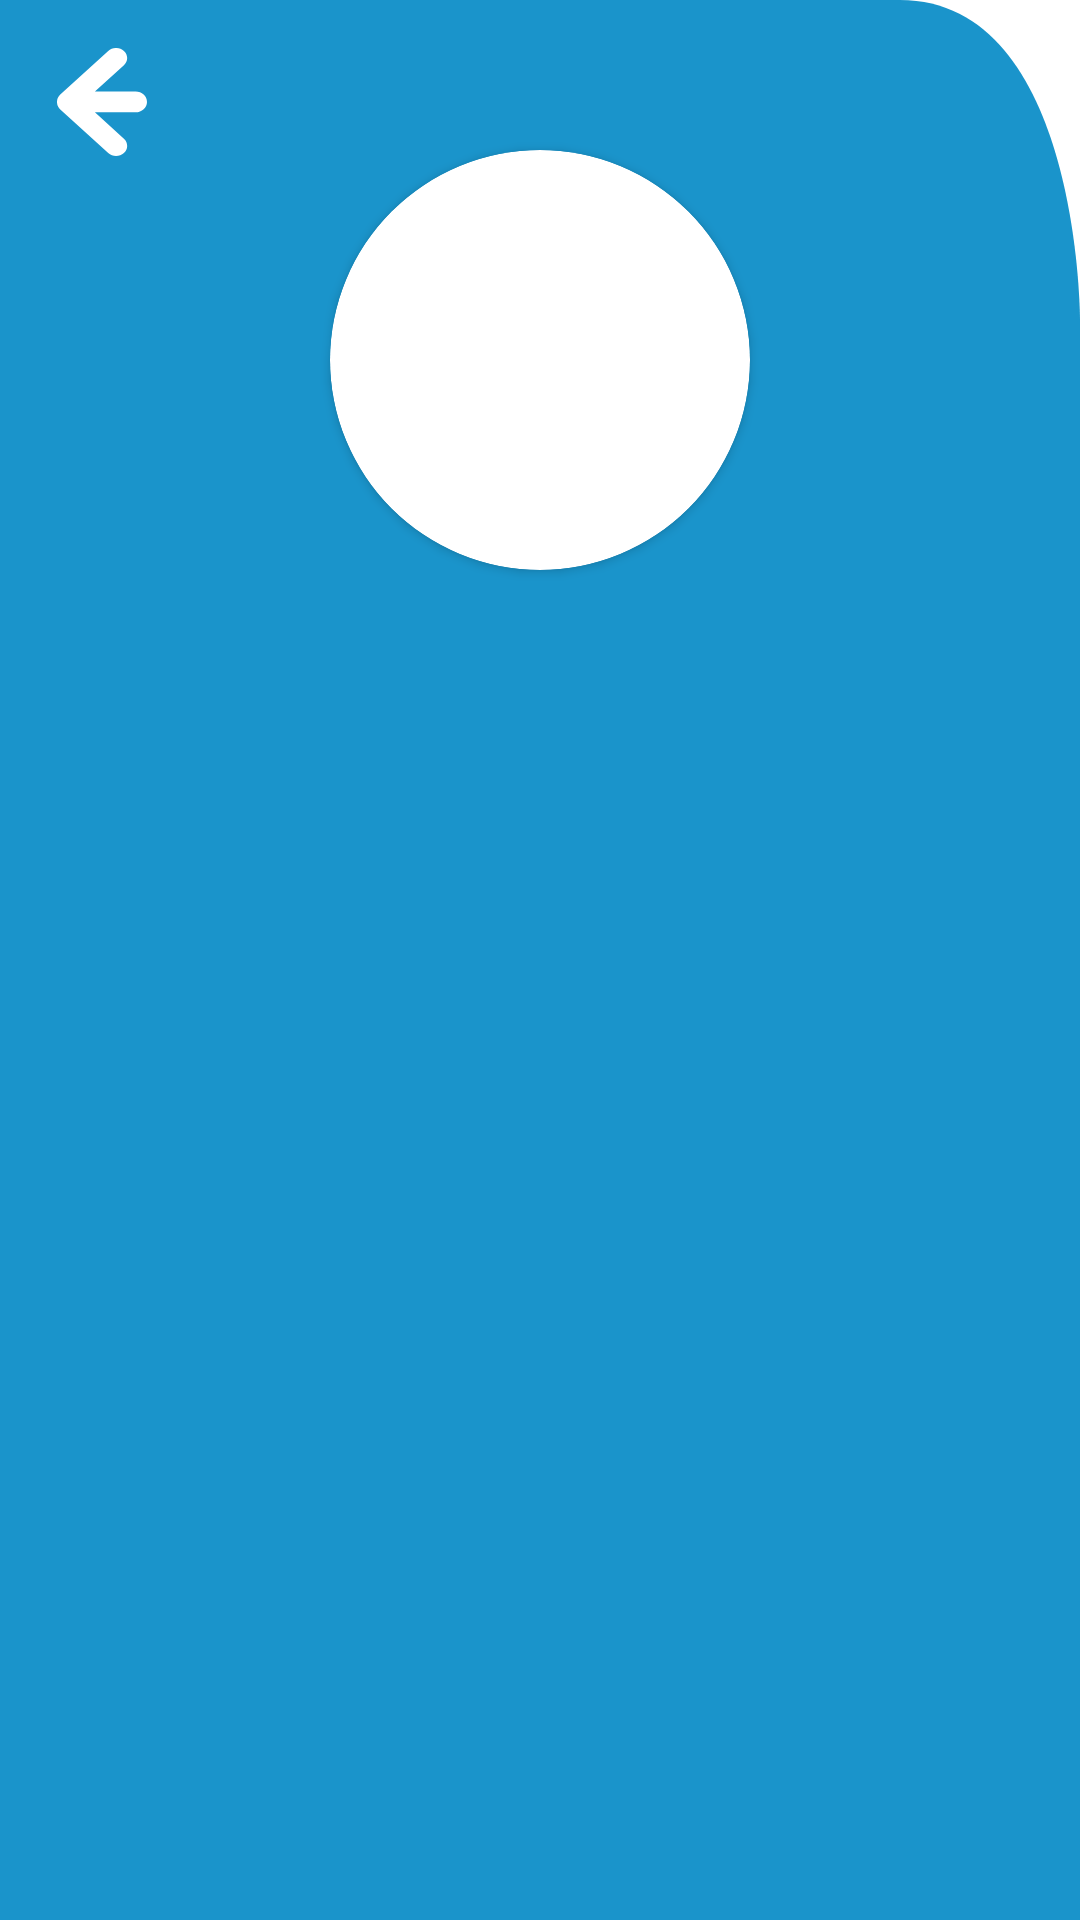

Screen size 1080 × 1920. Icon name, then its center in pixels as (x,y):
back: (102,102)
